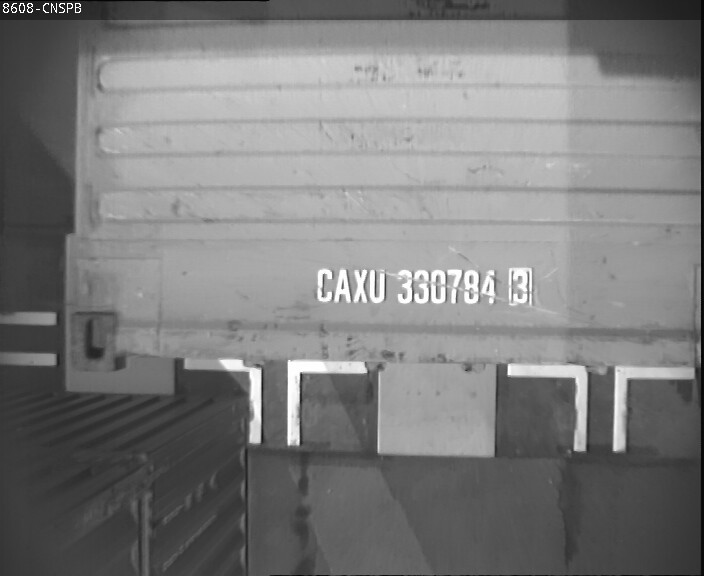groundmarker_1: (185, 355, 366, 446), (512, 363, 694, 453)
